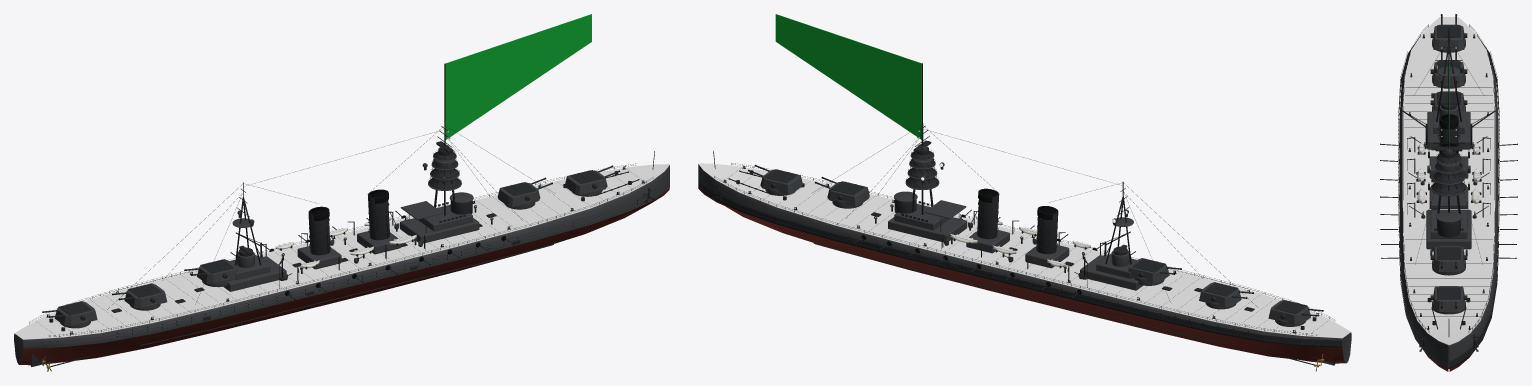
3 renders of one model, left to right at view 1: azimuth 30°, elevation 25°; view 2: azimuth 150°, elevation 25°; view 3: azimuth 270°, elevation 25°, orthographic. The views are drawn at different scales.
Parts seen in each view (by area): view 1: Amagi_Main_Hull, Main_Teak_Deck, Amagi_IDFlag, Forward_Deckhouse_Base, Funnel_1, Aft_Deckhouse_Base, Funnel_2, Forward_Deckhouse_Upper, Bilge_Keel_-1, Funnel_Casing_-9.5, Funnel_Casing_13.5, Hull_Strake_-1_2.2 (+3 smaller); view 2: Main_Teak_Deck, Amagi_Main_Hull, Amagi_IDFlag, Armor_Belt_Port, Boot_Topping_Port, Forward_Deckhouse_Base, Funnel_1, Aft_Deckhouse_Base, Funnel_2, Forward_Deckhouse_Upper, Bilge_Keel_1, Funnel_Casing_-9.5 (+4 smaller); view 3: Main_Teak_Deck, Amagi_Main_Hull, Forward_Deckhouse_Base, Aft_Deckhouse_Base, Turret_1_Body, Turret_2_Body, Turret_5_Body, Forward_Deckhouse_Upper, Armor_Belt_Port, Turret_4_Body, Signal_Deck, Armored_Conning_Tower (+27 smaller).
Part boxes in pixels (x1,y1,x2,y2): Amagi_Main_Hull: (14,165,669,365); Main_Teak_Deck: (14,164,669,339); Amagi_IDFlag: (445,14,591,139); Forward_Deckhouse_Base: (400,218,479,243); Funnel_1: (368,196,389,240); Aft_Deckhouse_Base: (223,256,286,291); Funnel_2: (308,213,330,255); Forward_Deckhouse_Upper: (418,204,472,231); Bilge_Keel_-1: (140,244,553,345); Funnel_Casing_-9.5: (297,246,341,269); Funnel_Casing_13.5: (357,231,400,254); Hull_Strake_-1_2.2: (38,186,664,342); Main_Teak_Deck: (698,163,1350,338); Amagi_Main_Hull: (698,164,1351,363); Amagi_IDFlag: (775,14,921,139); Armor_Belt_Port: (698,179,1342,345); Boot_Topping_Port: (698,185,1342,347); Forward_Deckhouse_Base: (888,217,967,242); Funnel_1: (977,194,999,239); Aft_Deckhouse_Base: (1080,255,1142,290); Funnel_2: (1036,212,1058,254); Forward_Deckhouse_Upper: (894,204,948,230); Bilge_Keel_1: (813,243,1225,344); Funnel_Casing_-9.5: (1025,245,1069,268); Main_Teak_Deck: (1402,17,1495,345); Amagi_Main_Hull: (1399,53,1498,371); Forward_Deckhouse_Base: (1426,210,1471,249); Aft_Deckhouse_Base: (1427,112,1470,149); Turret_1_Body: (1433,286,1464,312); Turret_2_Body: (1433,246,1464,272); Turret_5_Body: (1433,24,1464,50); Forward_Deckhouse_Upper: (1430,211,1467,238); Armor_Belt_Port: (1449,36,1498,366); Turret_4_Body: (1433,60,1464,86); Signal_Deck: (1431,192,1466,206); Armored_Conning_Tower: (1437,219,1460,237).
Bounding box in the file's own units: 25182 × 8021 × 4288.
